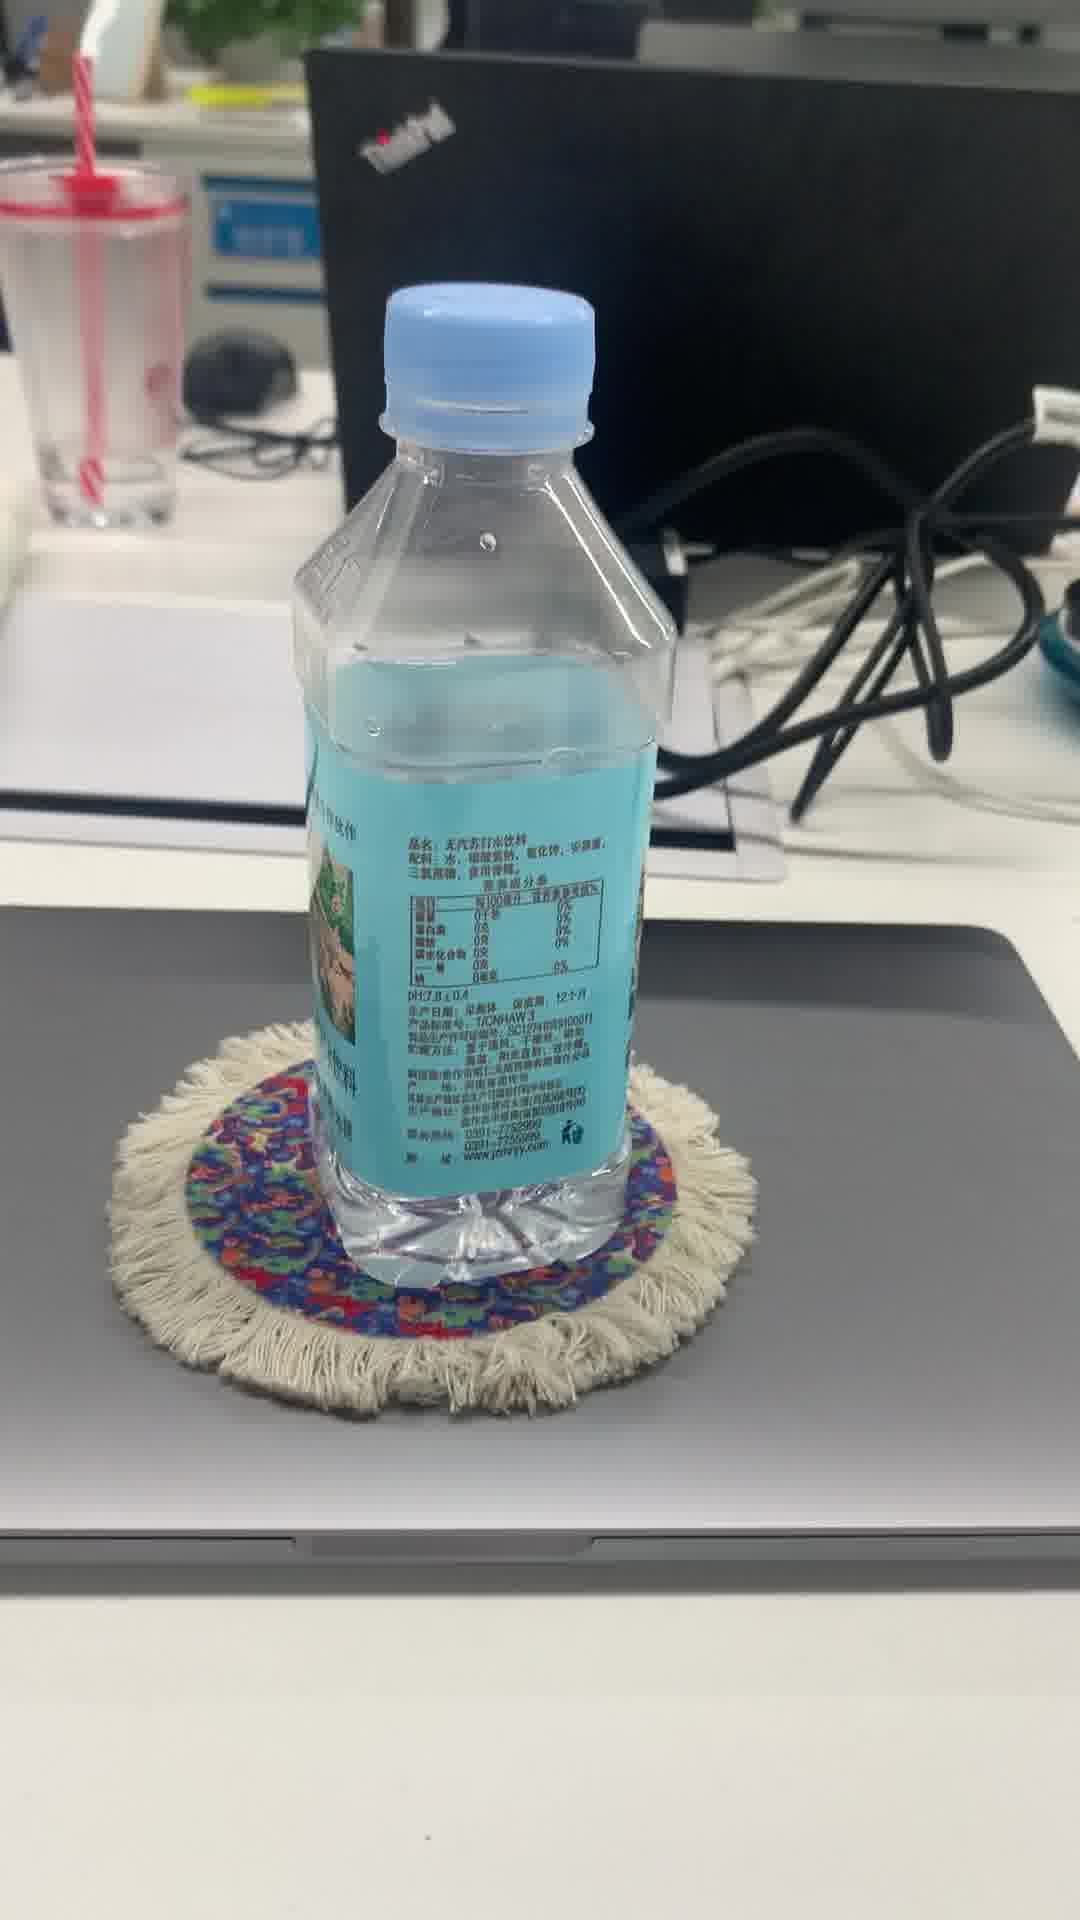水瓶: (281, 274, 671, 1295)
